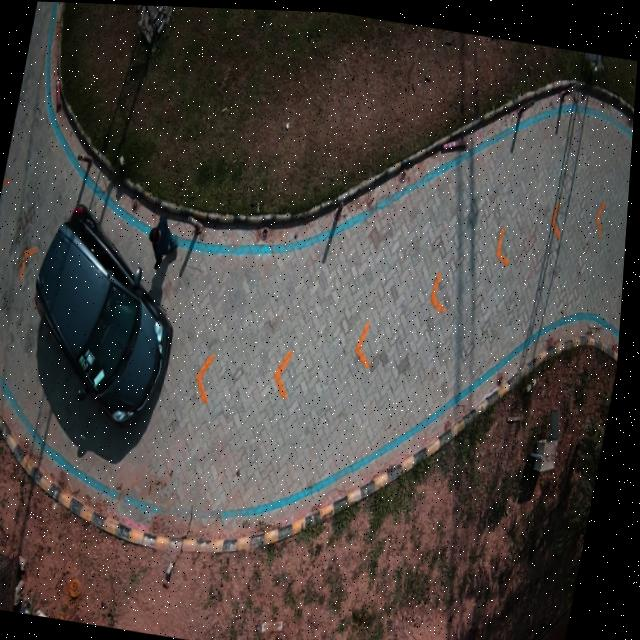car: (37, 201, 176, 428)
